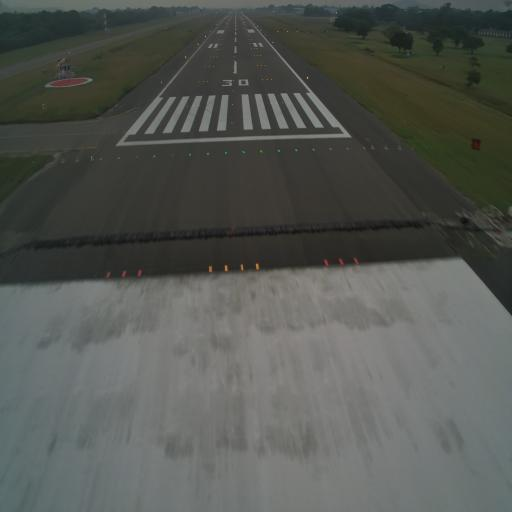off: (134, 153, 139, 161), (169, 152, 175, 158)
on: (120, 268, 130, 283), (136, 265, 144, 281), (206, 262, 214, 277), (222, 262, 230, 274), (238, 262, 245, 274), (105, 270, 112, 281), (352, 255, 359, 266), (338, 257, 344, 269), (323, 259, 330, 269), (255, 262, 261, 272), (383, 144, 389, 154), (396, 142, 402, 152), (370, 143, 376, 152), (61, 154, 66, 164), (344, 145, 350, 153), (259, 148, 264, 157), (97, 156, 103, 163), (276, 148, 282, 155), (74, 155, 79, 163), (224, 149, 229, 157), (311, 146, 316, 154), (89, 154, 93, 163), (152, 154, 157, 161), (241, 148, 245, 156), (294, 146, 298, 154), (362, 144, 366, 152), (116, 155, 121, 161), (328, 147, 333, 153), (206, 150, 210, 157), (188, 151, 193, 156)
